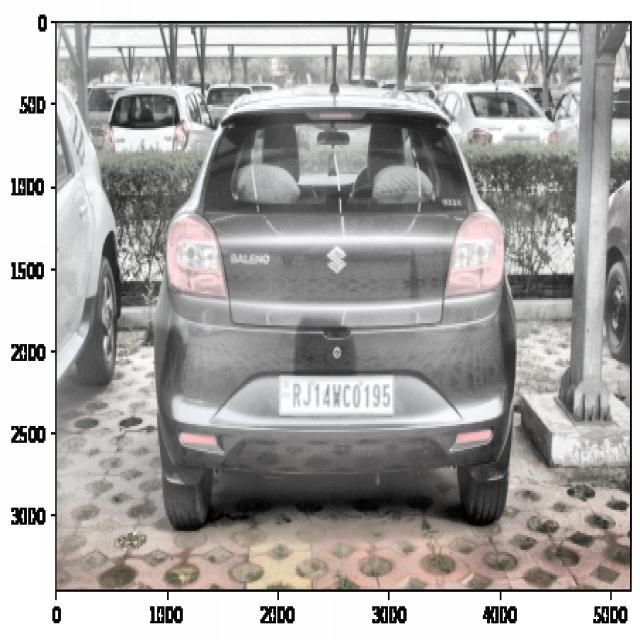license_plate: (285, 373, 399, 419)
